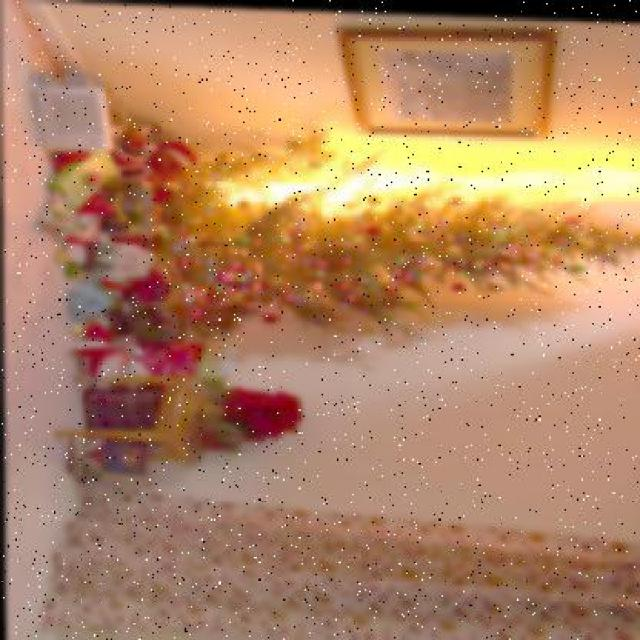fire: (210, 129, 638, 235)
